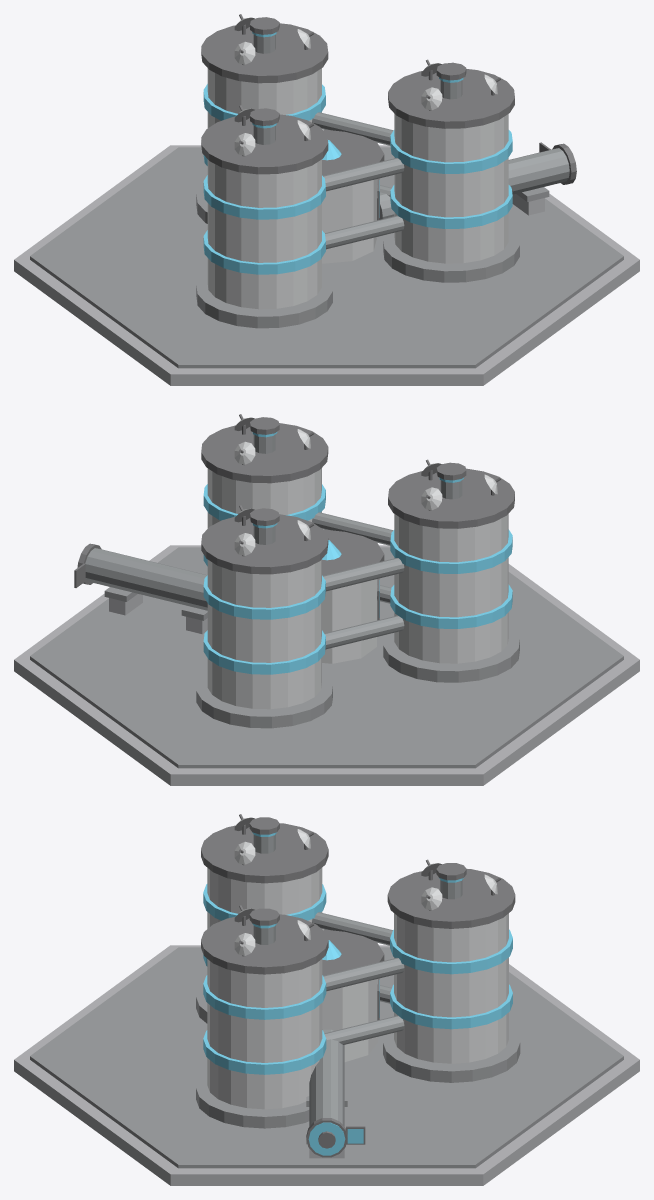
File: cleaner_s2_50.glb
The picture shows the model from 3 angles, top to bottom: view 1: azimuth 30°, elevation 25°; view 2: azimuth 150°, elevation 25°; view 3: azimuth 270°, elevation 25°; orthographic projection.
Parts seen in each view (by area): view 1: C_FoundRim, C_Foundation, C_T2_Tank, C_T3_Tank, C_T2_Cap, C_T1_Cap, C_T3_Cap, C_T1_Tank, C_T2_Pedestal, C_T3_Pedestal, C_ControlHouse, C_PipeStubE (+9 smaller); view 2: C_FoundRim, C_Foundation, C_T1_Tank, C_T2_Tank, C_T1_Cap, C_T3_Cap, C_T2_Cap, C_PipeStubE, C_T3_Tank, C_T1_Pedestal, C_T2_Pedestal, C_ControlHouse (+9 smaller); view 3: C_FoundRim, C_Foundation, C_T1_Tank, C_T3_Tank, C_T1_Cap, C_T2_Cap, C_T3_Cap, C_T2_Tank, C_T1_Pedestal, C_ControlHouse, C_PipeStubE, C_T3_Pedestal (+10 smaller).
Boxes of the visible parts, x1,y1,x2,y2 form: C_FoundRim: (30,147,623,368); C_Foundation: (14,145,639,385); C_T2_Tank: (207,159,321,309); C_T3_Tank: (394,114,508,263); C_T2_Cap: (201,114,328,174); C_T1_Cap: (201,23,328,83); C_T3_Cap: (388,69,514,128); C_T1_Tank: (207,68,321,127); C_T2_Pedestal: (196,272,332,328); C_T3_Pedestal: (383,227,519,282); C_ControlHouse: (322,179,376,263); C_PipeStubE: (377,148,569,219); C_FoundRim: (30,547,623,768); C_Foundation: (14,545,639,785); C_T1_Tank: (207,559,321,709); C_T2_Tank: (394,514,508,663); C_T1_Cap: (201,514,328,574); C_T3_Cap: (201,423,328,483); C_T2_Cap: (388,468,514,528); C_PipeStubE: (85,548,207,610); C_T3_Tank: (207,468,321,528); C_T1_Pedestal: (196,672,332,728); C_T2_Pedestal: (383,627,519,682); C_ControlHouse: (322,579,376,663); C_FoundRim: (30,947,623,1168); C_Foundation: (14,945,639,1185); C_T1_Tank: (394,913,508,1063); C_T3_Tank: (207,959,322,1109); C_T1_Cap: (387,869,515,928); C_T2_Cap: (201,823,328,883); C_T3_Cap: (201,914,328,974); C_T2_Tank: (207,867,322,928); C_T1_Pedestal: (383,1027,520,1082); C_ControlHouse: (322,979,377,1061); C_PipeStubE: (309,1029,344,1126); C_T3_Pedestal: (196,1073,309,1128).
Bounding box in the file's own units: 3.45 × 1.4 × 3.92.
